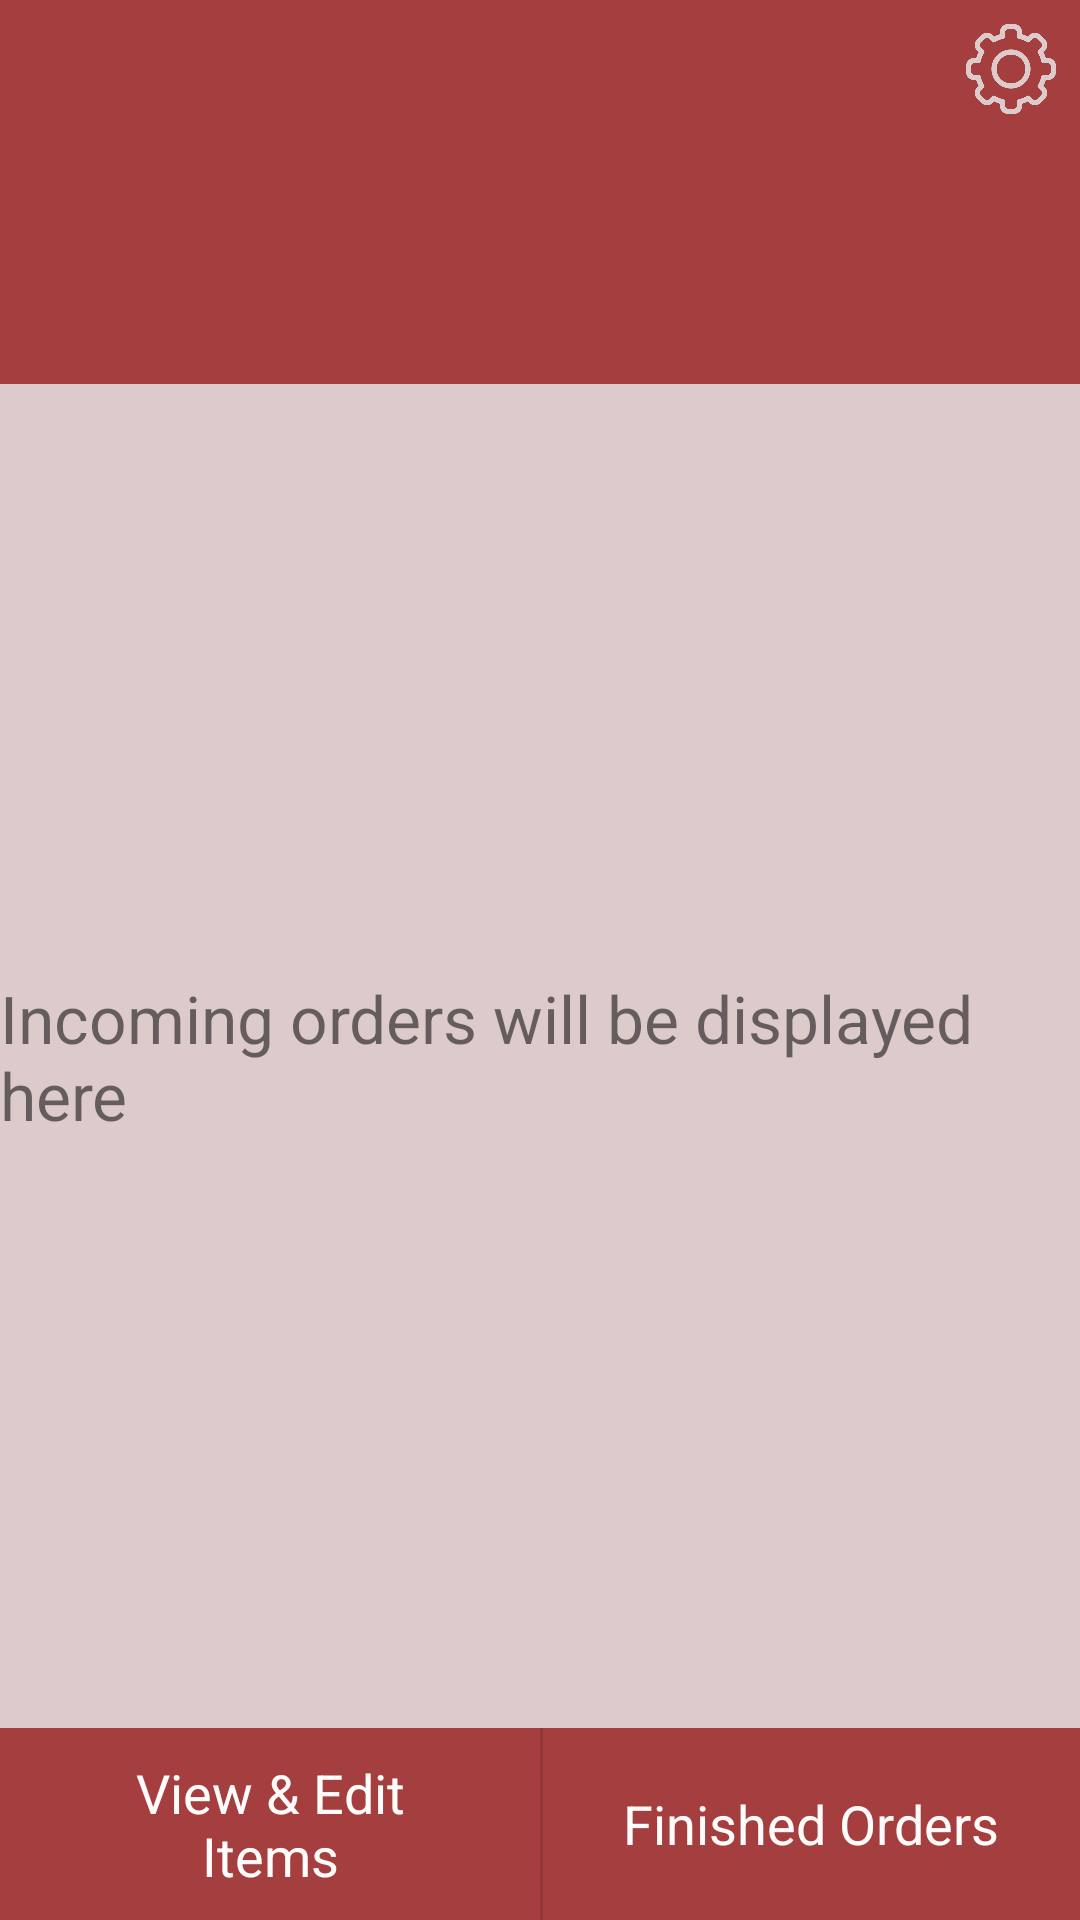

Where icons sit on this 1080px x 1920px app screen, as (x1, y1, x2, y2):
settings: (966, 24, 1056, 114)
